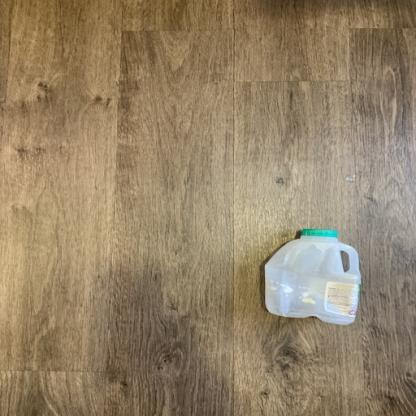trash: (258, 223, 366, 332)
